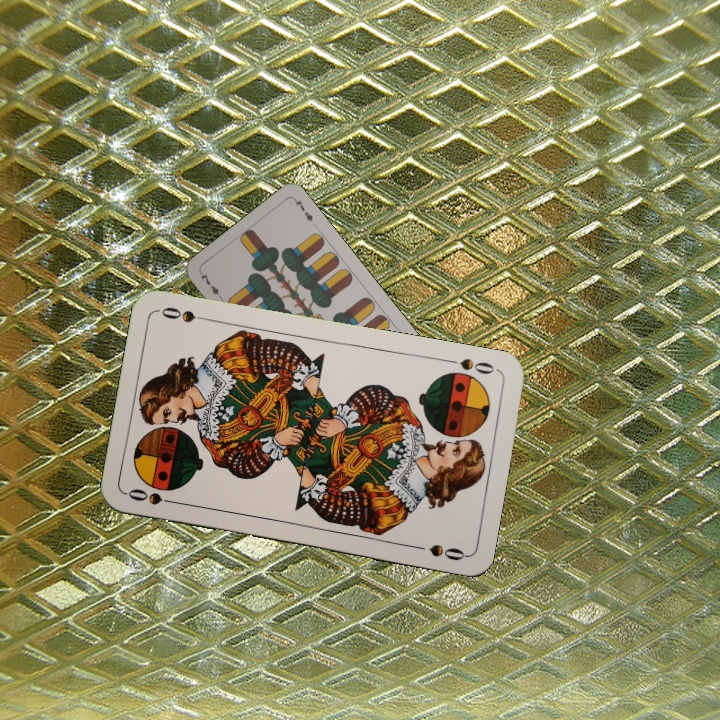E7: (197, 269, 226, 304)
SO: (124, 484, 183, 507), (442, 354, 501, 377)
